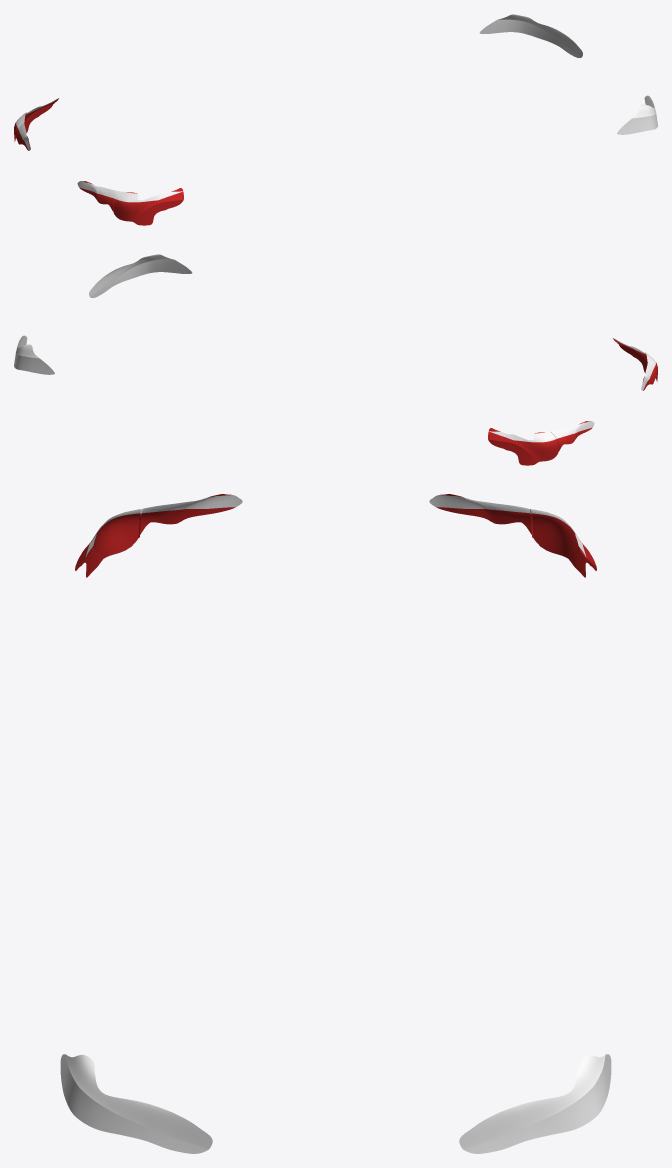
Rendered from SM_Qashqai_Lenses.fbx.
3 views of the same model, one above another, from view 1: azimuth 30°, elevation 25°; view 2: azimuth 150°, elevation 25°; view 3: azimuth 270°, elevation 25° (orthographic). The views are drawn at different scales.
Visible parts, largest first — view 1: SM_Qashqai_Lenses; view 2: SM_Qashqai_Lenses; view 3: SM_Qashqai_Lenses.
Part boxes in pixels (x1,y1,x2,y2): SM_Qashqai_Lenses: (14,14,657,225); SM_Qashqai_Lenses: (14,254,657,465); SM_Qashqai_Lenses: (60,494,611,1153).
Size of the model in its own units: 416 by 43.24 by 177.
